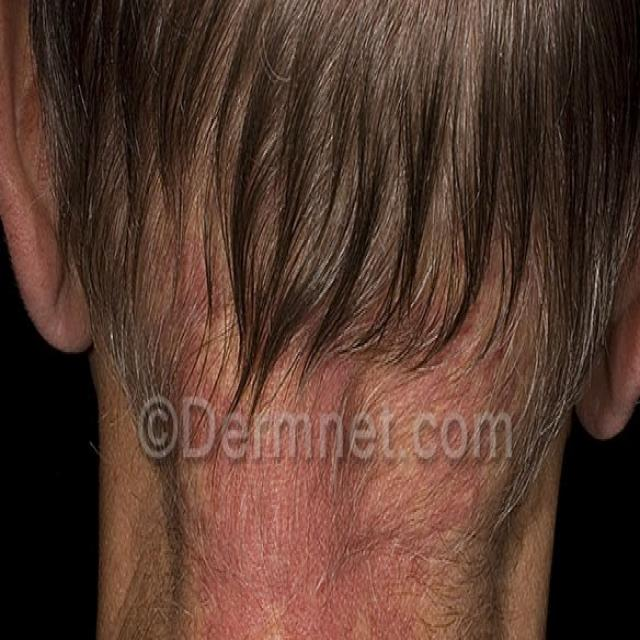Vascular Tumors: (155, 330, 459, 640)
